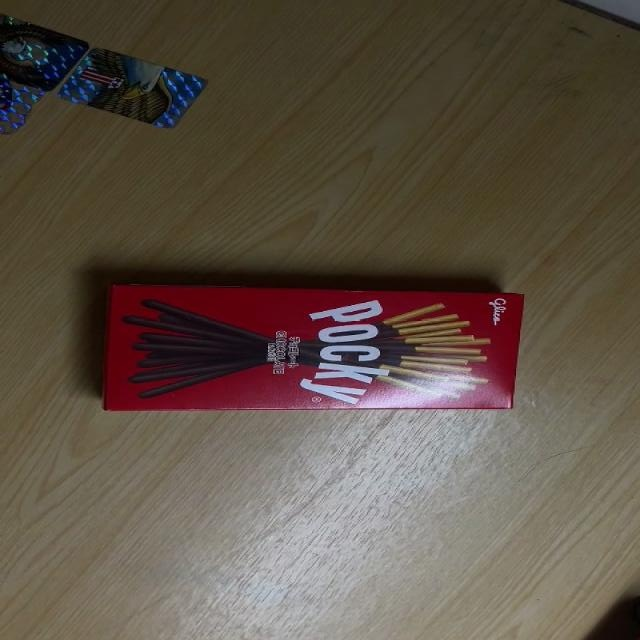Pocky: (104, 284, 526, 414)
